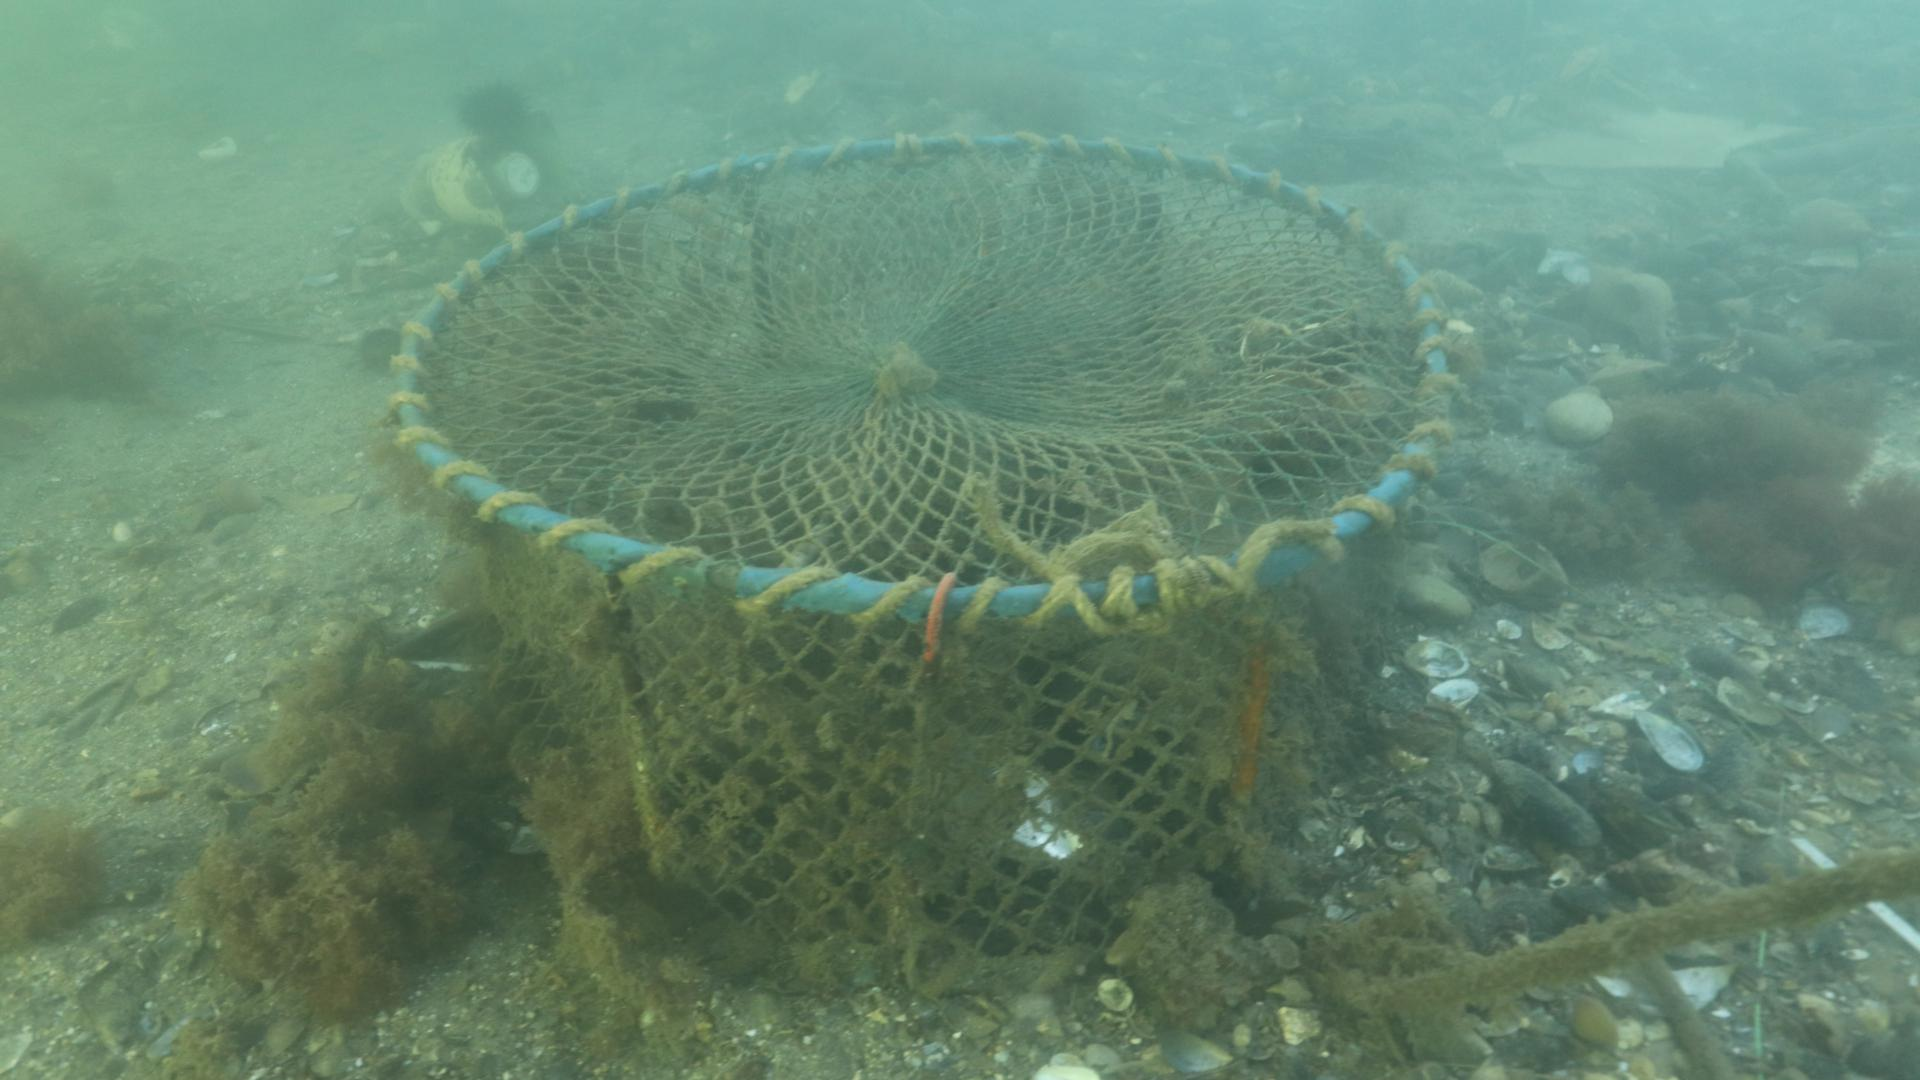circular fish trap: (386, 131, 1455, 1006)
